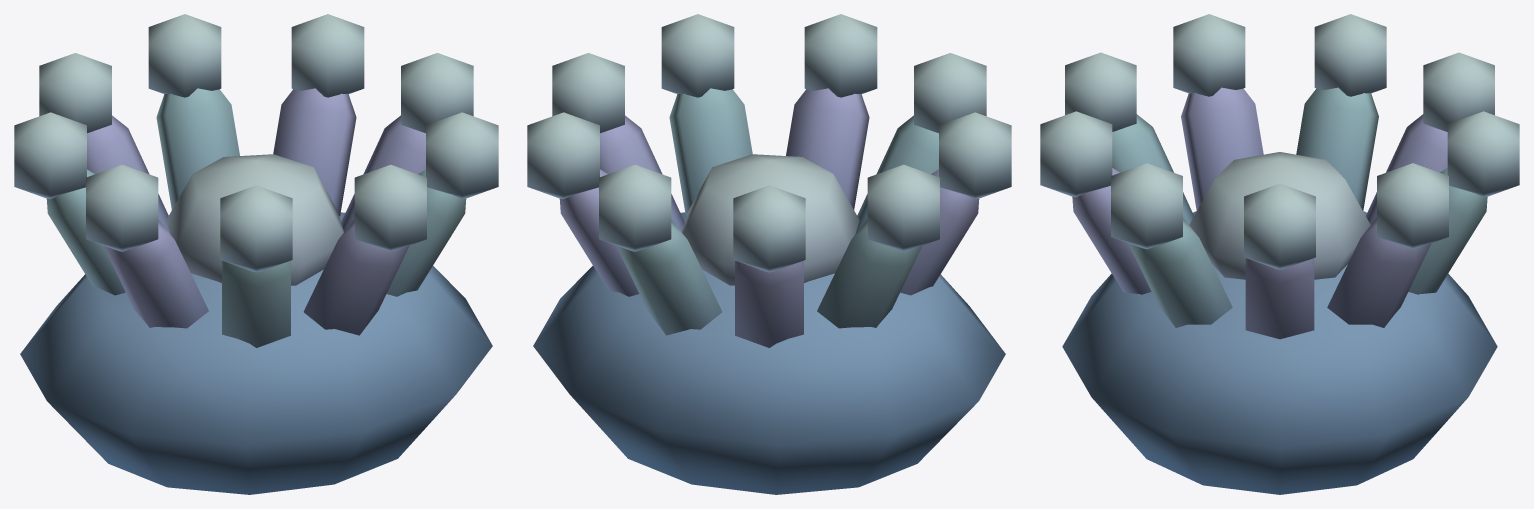
Rendered from Ocean_Cool_Pearl_Anemone.glb.
3 views of the same model, side by side, from view 1: azimuth 30°, elevation 25°; view 2: azimuth 150°, elevation 25°; view 3: azimuth 270°, elevation 25° (orthographic).
Visible parts, largest first — view 1: Ocean_Cool_Pearl_Anemone; view 2: Ocean_Cool_Pearl_Anemone; view 3: Ocean_Cool_Pearl_Anemone.
Boxes of the visible parts, bbox=[...] form: Ocean_Cool_Pearl_Anemone: bbox=[14, 14, 498, 494]; Ocean_Cool_Pearl_Anemone: bbox=[527, 14, 1011, 494]; Ocean_Cool_Pearl_Anemone: bbox=[1040, 14, 1519, 494].
Bounding box in the file's own units: 0.4481 × 0.364 × 0.4402.
